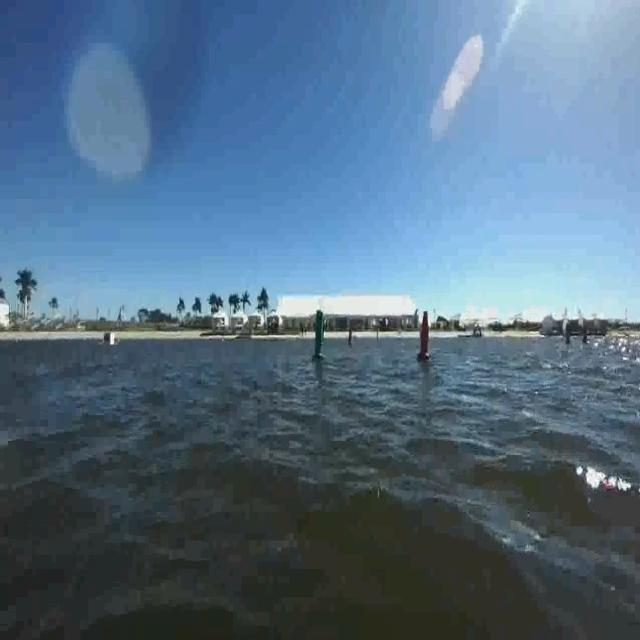green-column-buoy: (311, 307, 328, 362)
red-column-buoy: (417, 312, 432, 363)
